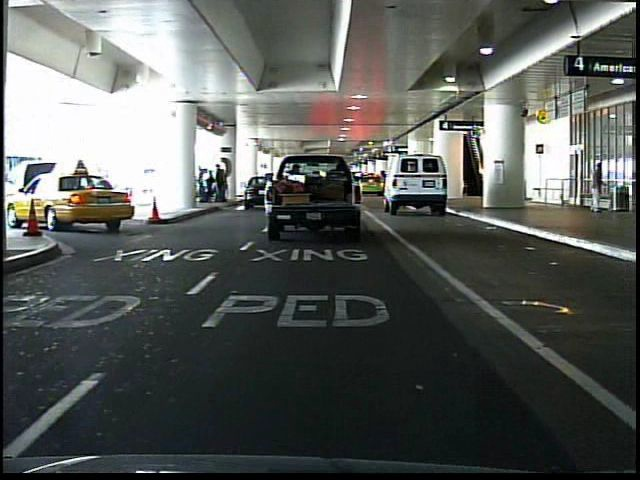person: (585, 160, 609, 216)
